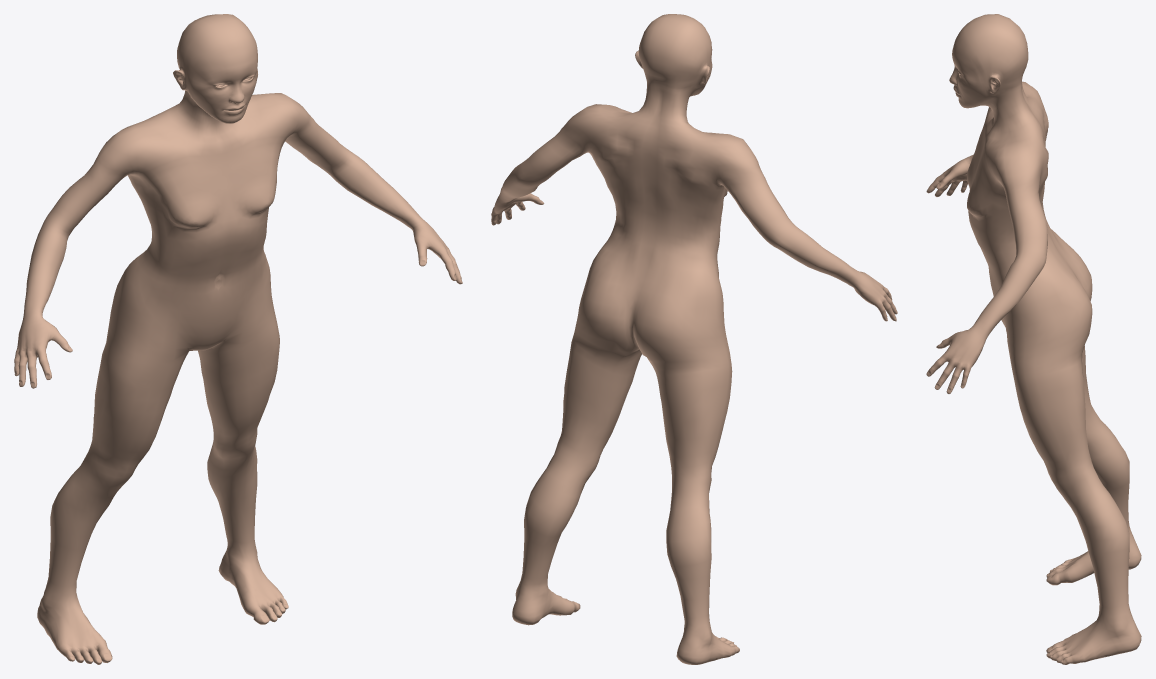
The model's file is impar-human-variant.glb.
The picture shows the model from 3 angles, left to right: view 1: azimuth 30°, elevation 25°; view 2: azimuth 150°, elevation 25°; view 3: azimuth 270°, elevation 25°; orthographic projection. The views are drawn at different scales.
Visible parts, largest first — view 1: IMPAR_Avatar_Body_CC0; view 2: IMPAR_Avatar_Body_CC0; view 3: IMPAR_Avatar_Body_CC0.
Part boxes in pixels (x1=…): IMPAR_Avatar_Body_CC0: x1=14, y1=14, x2=462, y2=664; IMPAR_Avatar_Body_CC0: x1=491, y1=14, x2=897, y2=664; IMPAR_Avatar_Body_CC0: x1=926, y1=14, x2=1141, y2=664.
Bounding box in the file's own units: 11.99 × 16.83 × 5.46.
